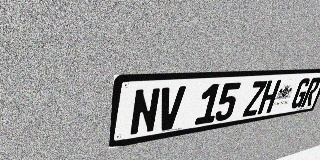1: (195, 83, 223, 125)
5: (214, 82, 241, 122)
G: (289, 78, 312, 109)
H: (257, 80, 281, 115)
N: (129, 87, 161, 136)
R: (300, 77, 320, 107)
V: (155, 86, 186, 132)
Z: (242, 81, 268, 117)
